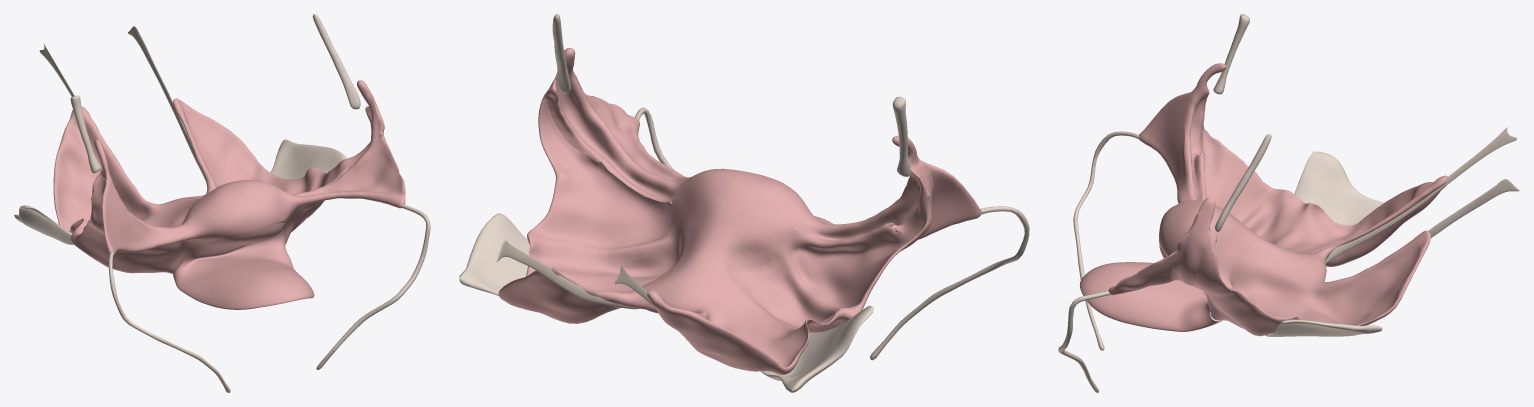
Rendered from VH_F_Ligaments_Uterus_Ovaries.glb.
3 views of the same model, side by side, from view 1: azimuth 30°, elevation 25°; view 2: azimuth 150°, elevation 25°; view 3: azimuth 270°, elevation 25° (orthographic). The views are drawn at different scales.
Visible parts, largest first — view 1: VH_F_broad_ligament, VH_F_uterovesical_pouch, VH_F_left_cardinal_ligament_of_uterus, VH_F_mesosalpinx_L, VH_F_right_round_ligament_of_uterus, VH_F_mesosalpinx_R, VH_F_right_cardinal_ligament_of_uterus, VH_F_left_round_ligament_of_uterus, VH_F_suspensory_ligament_of_ovary_L, VH_F_left_uterosacral_ligament, VH_F_suspensory_ligament_of_ovary_R; view 2: VH_F_broad_ligament, VH_F_mesosalpinx_L, VH_F_left_cardinal_ligament_of_uterus, VH_F_mesosalpinx_R, VH_F_right_cardinal_ligament_of_uterus, VH_F_left_round_ligament_of_uterus, VH_F_left_uterosacral_ligament, VH_F_mesovarium_L, VH_F_suspensory_ligament_of_ovary_R, VH_F_suspensory_ligament_of_ovary_L, VH_F_mesovarium_R; view 3: VH_F_broad_ligament, VH_F_uterovesical_pouch, VH_F_right_cardinal_ligament_of_uterus, VH_F_mesosalpinx_L, VH_F_mesosalpinx_R, VH_F_left_cardinal_ligament_of_uterus, VH_F_right_uterosacral_ligament, VH_F_left_round_ligament_of_uterus, VH_F_left_uterosacral_ligament, VH_F_suspensory_ligament_of_ovary_L, VH_F_right_round_ligament_of_uterus, VH_F_suspensory_ligament_of_ovary_R.
Boxes of the visible parts, x1=… form: VH_F_broad_ligament: x1=53, y1=94, x2=405, y2=273; VH_F_uterovesical_pouch: x1=173, y1=222, x2=314, y2=309; VH_F_left_cardinal_ligament_of_uterus: x1=270, y1=139, x2=346, y2=179; VH_F_mesosalpinx_L: x1=288, y1=80, x2=378, y2=220; VH_F_right_round_ligament_of_uterus: x1=316, y1=204, x2=430, y2=369; VH_F_mesosalpinx_R: x1=91, y1=139, x2=189, y2=241; VH_F_right_cardinal_ligament_of_uterus: x1=14, y1=205, x2=73, y2=244; VH_F_left_round_ligament_of_uterus: x1=108, y1=252, x2=230, y2=392; VH_F_suspensory_ligament_of_ovary_L: x1=312, y1=14, x2=360, y2=109; VH_F_left_uterosacral_ligament: x1=128, y1=26, x2=205, y2=180; VH_F_suspensory_ligament_of_ovary_R: x1=70, y1=95, x2=100, y2=173; VH_F_broad_ligament: x1=498, y1=75, x2=981, y2=374; VH_F_mesosalpinx_L: x1=554, y1=48, x2=681, y2=202; VH_F_left_cardinal_ligament_of_uterus: x1=459, y1=213, x2=529, y2=295; VH_F_mesosalpinx_R: x1=793, y1=135, x2=933, y2=240; VH_F_right_cardinal_ligament_of_uterus: x1=761, y1=305, x2=873, y2=392; VH_F_left_round_ligament_of_uterus: x1=870, y1=206, x2=1029, y2=360; VH_F_left_uterosacral_ligament: x1=496, y1=240, x2=639, y2=309; VH_F_mesovarium_L: x1=546, y1=79, x2=604, y2=162; VH_F_suspensory_ligament_of_ovary_R: x1=892, y1=96, x2=910, y2=176; VH_F_suspensory_ligament_of_ovary_L: x1=552, y1=14, x2=570, y2=93; VH_F_mesovarium_R: x1=896, y1=177, x2=928, y2=232; VH_F_broad_ligament: x1=1108, y1=92, x2=1447, y2=336; VH_F_uterovesical_pouch: x1=1079, y1=243, x2=1221, y2=331; VH_F_right_cardinal_ligament_of_uterus: x1=1294, y1=151, x2=1384, y2=225; VH_F_mesosalpinx_L: x1=1170, y1=197, x2=1215, y2=287; VH_F_mesosalpinx_R: x1=1184, y1=63, x2=1226, y2=200; VH_F_left_cardinal_ligament_of_uterus: x1=1265, y1=319, x2=1382, y2=336; VH_F_right_uterosacral_ligament: x1=1325, y1=127, x2=1516, y2=263; VH_F_left_round_ligament_of_uterus: x1=1073, y1=131, x2=1139, y2=350; VH_F_left_uterosacral_ligament: x1=1428, y1=179, x2=1519, y2=237; VH_F_suspensory_ligament_of_ovary_L: x1=1215, y1=134, x2=1271, y2=232; VH_F_right_round_ligament_of_uterus: x1=1058, y1=290, x2=1110, y2=392; VH_F_suspensory_ligament_of_ovary_R: x1=1213, y1=14, x2=1249, y2=94.
Bounding box in the file's own units: 0.1471 × 0.1234 × 0.1706.
